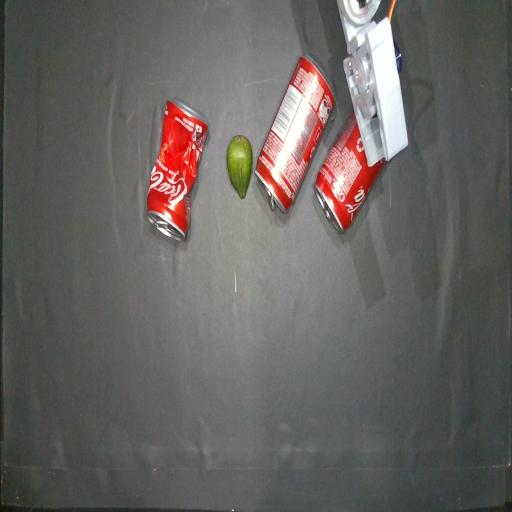higo: (227, 136, 252, 198)
lata: (255, 56, 335, 212), (314, 111, 385, 232)
lata_defectuoso: (147, 100, 209, 241)
